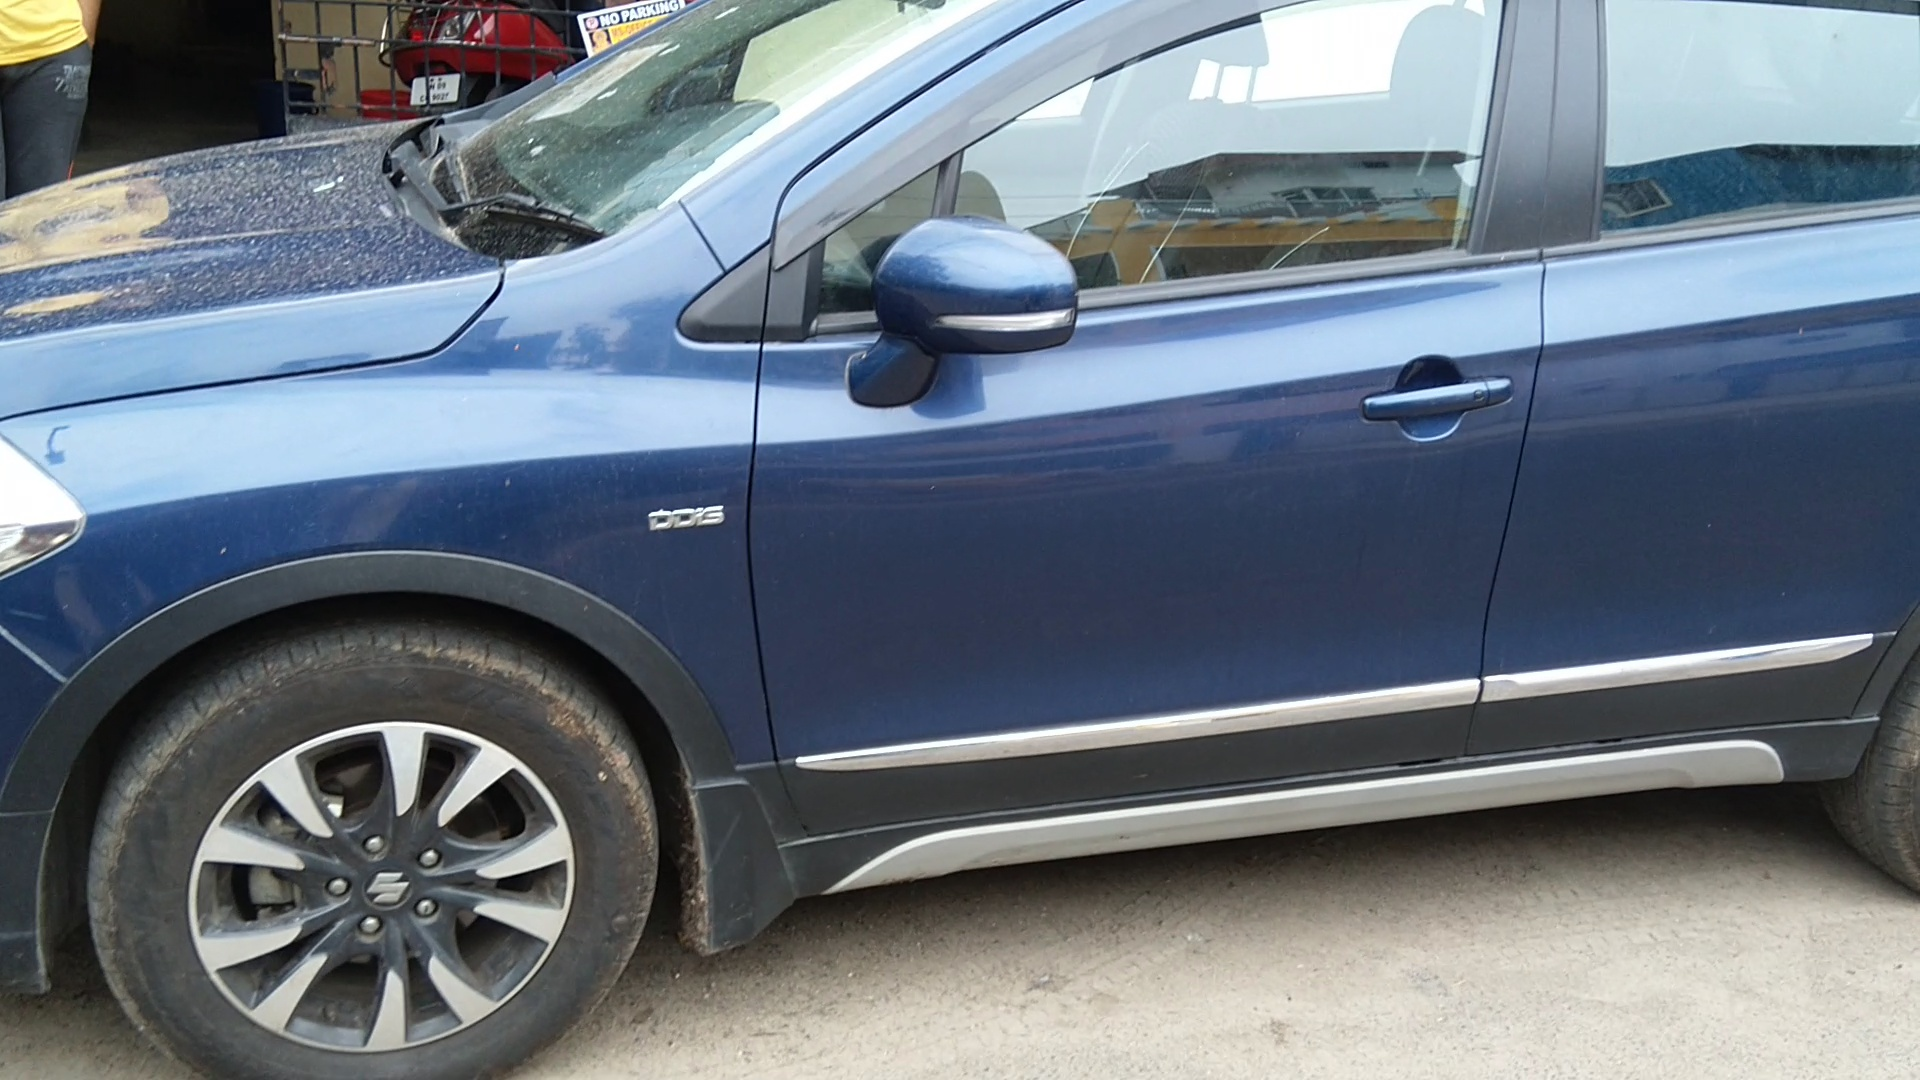alloy_wheel: (91, 616, 641, 1080)
ovr_mirror: (837, 204, 1085, 419)
